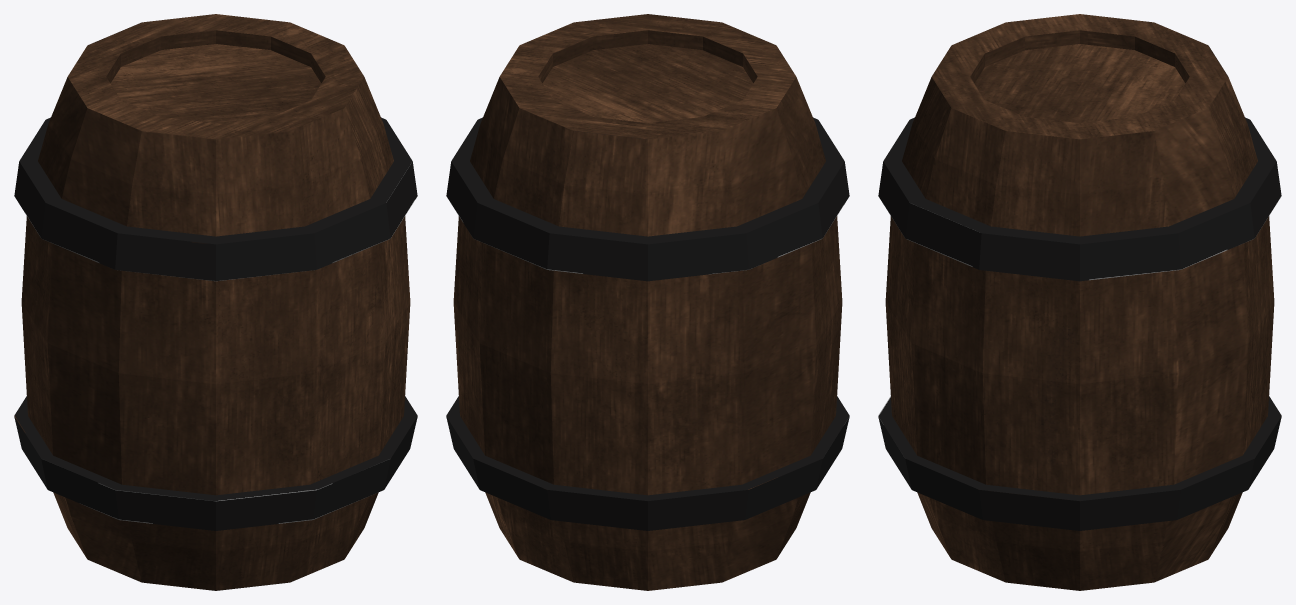
File: barril 1.fbx
3 views of the same model, side by side, from view 1: azimuth 30°, elevation 25°; view 2: azimuth 150°, elevation 25°; view 3: azimuth 270°, elevation 25° (orthographic).
Visible parts, largest first — view 1: Circle.002; view 2: Circle.002; view 3: Circle.002.
Boxes of the visible parts, bbox=[...] form: Circle.002: bbox=[14, 14, 417, 590]; Circle.002: bbox=[446, 14, 849, 590]; Circle.002: bbox=[878, 14, 1281, 590].
Bounding box in the file's own units: 478 × 590 × 478.
